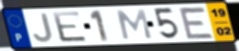1: (89, 9, 111, 43)
5: (153, 7, 180, 41)
E: (177, 6, 216, 40), (50, 10, 90, 43)
J: (32, 12, 55, 44)
M: (116, 9, 154, 41)
